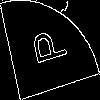P: (24, 25, 68, 69)
